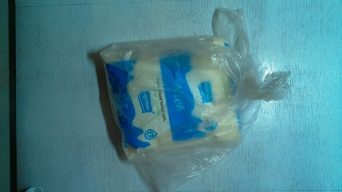m: (88, 28, 282, 161)
